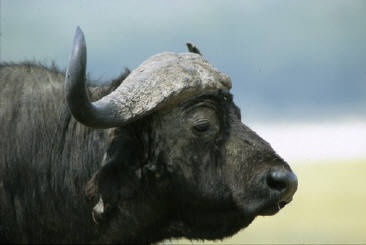buffalo: (0, 25, 298, 244)
